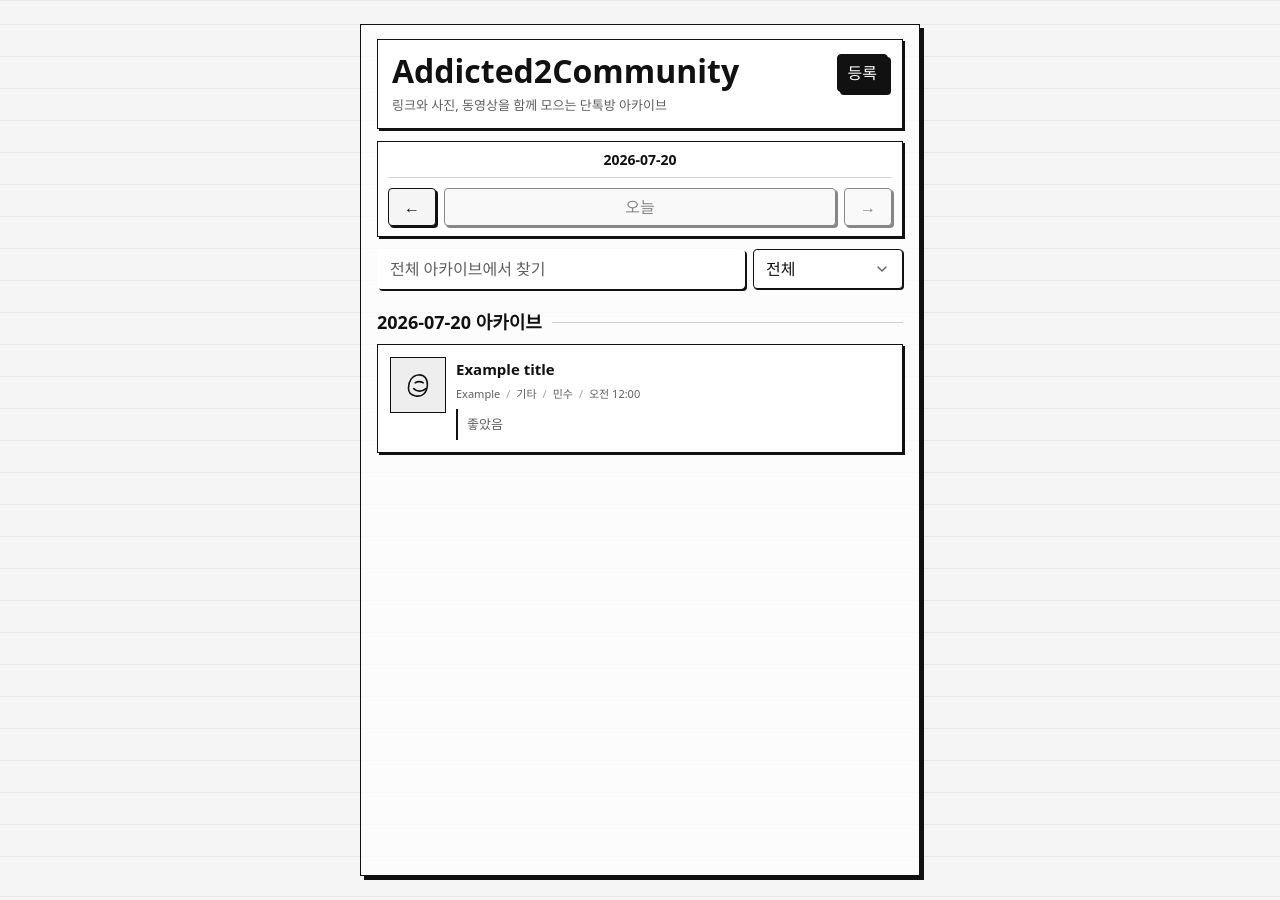
Test case: ArchiveApp › opens the create dialog with URL, note, and optional title on metadata failure
Click the button "등록". click: (862, 73)
box: [836, 54, 888, 92]
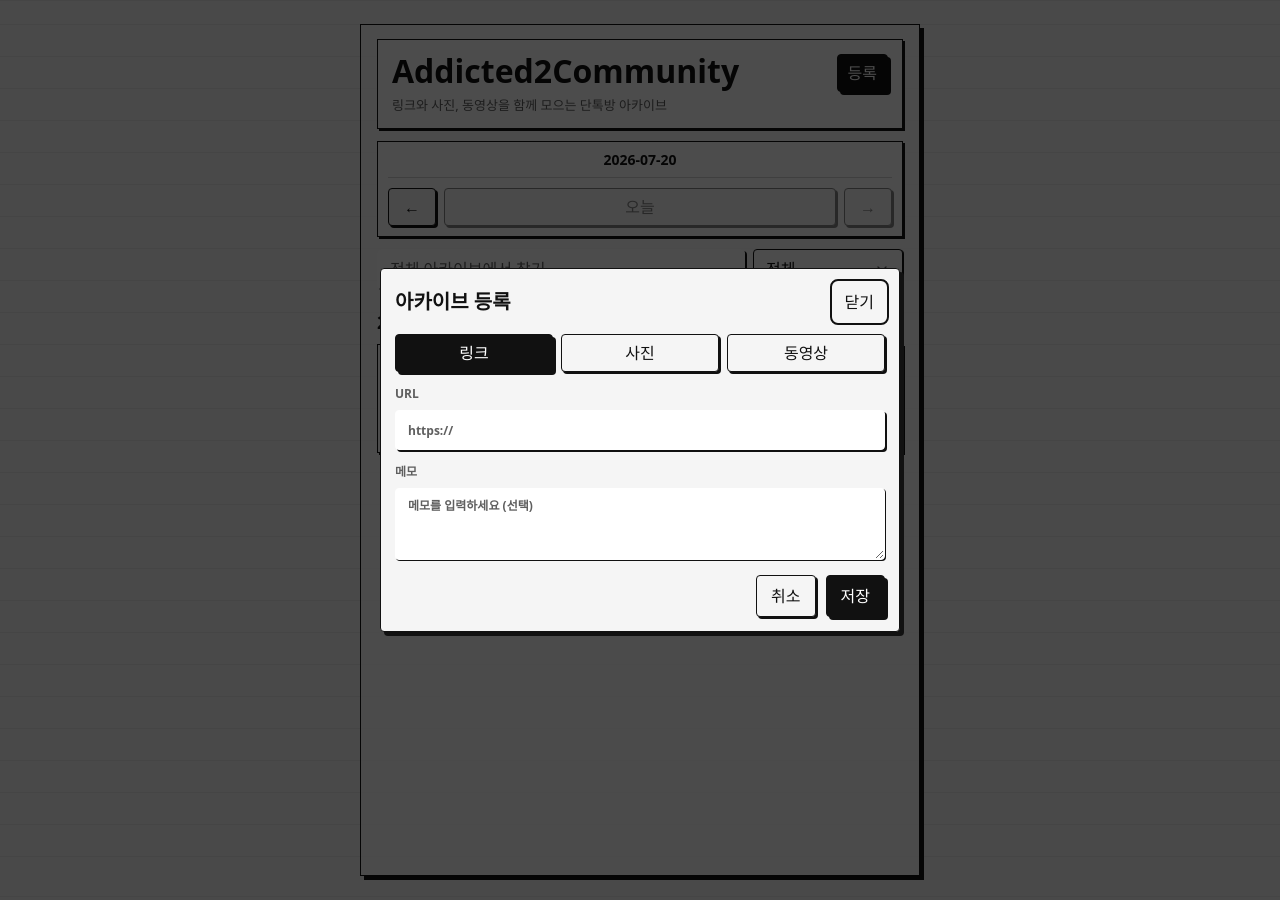
Result: the field labelled "URL" is shown
Result: the button "사진" is shown at [561, 334, 719, 372]
Result: the button "동영상" is shown at [727, 334, 885, 372]
Type "https://www.youtube.com/shorts/demo" into the field labelled "URL". click: (640, 430)
box: [395, 410, 885, 450]
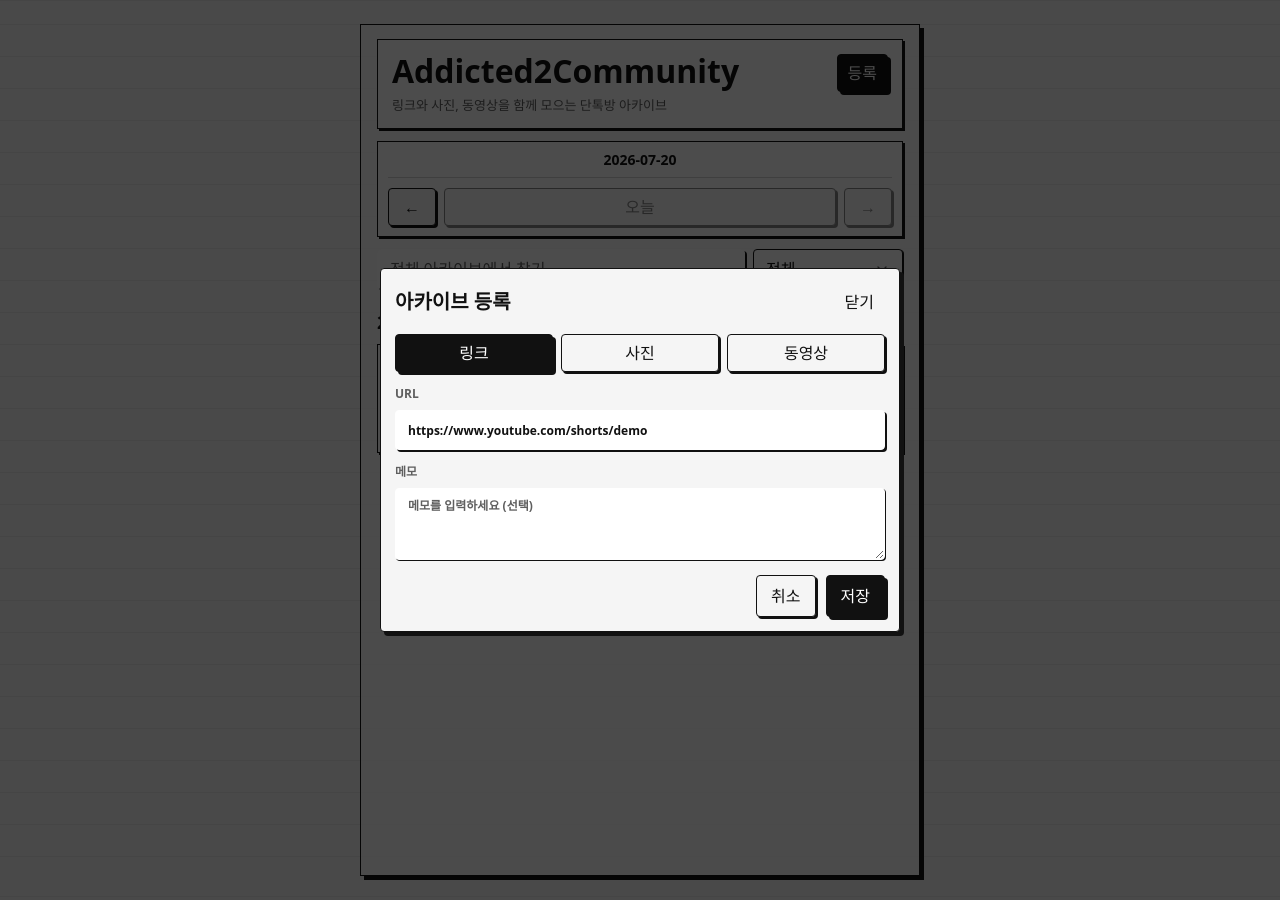
Press Tab
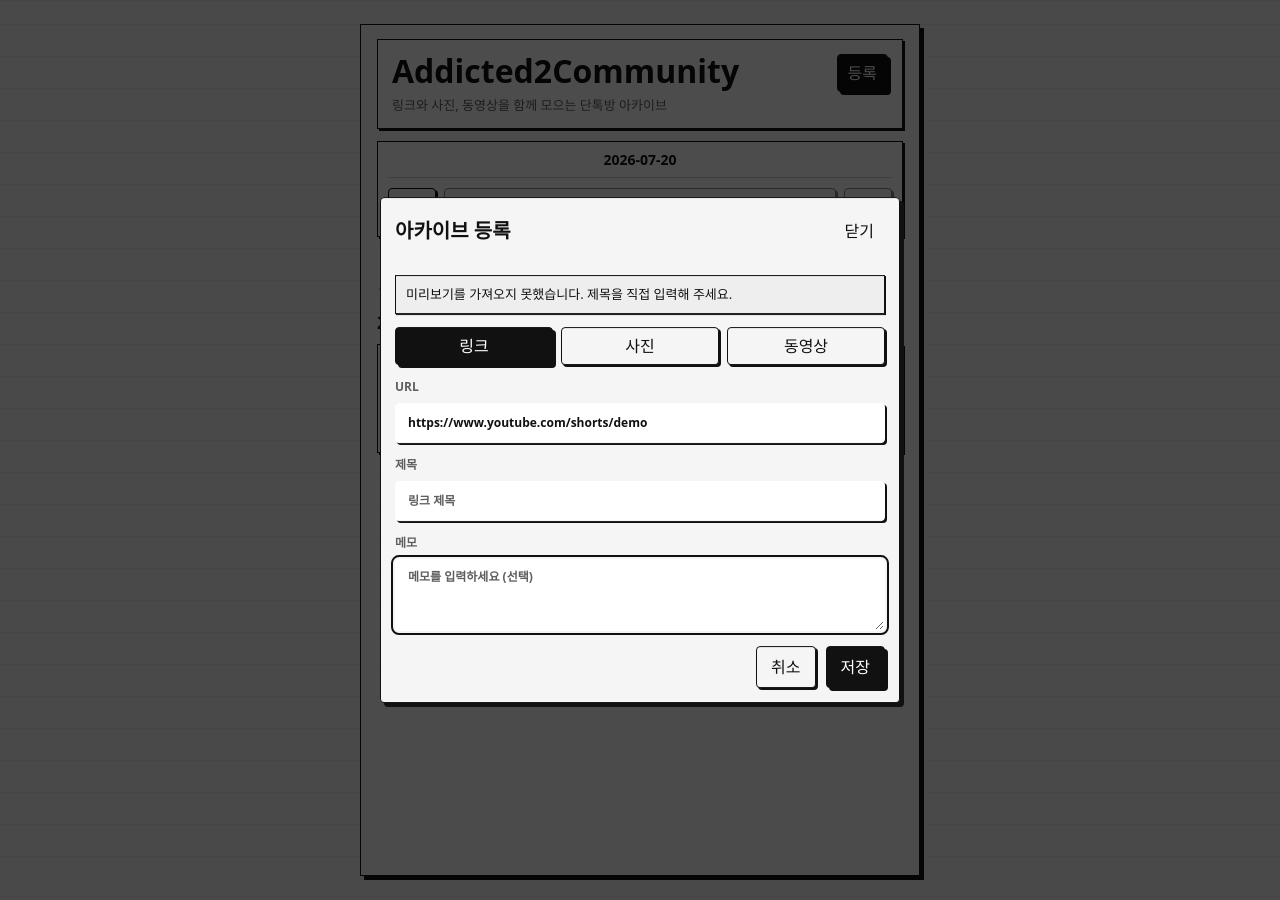
Result: the field labelled "제목" is shown at [395, 481, 885, 521]
